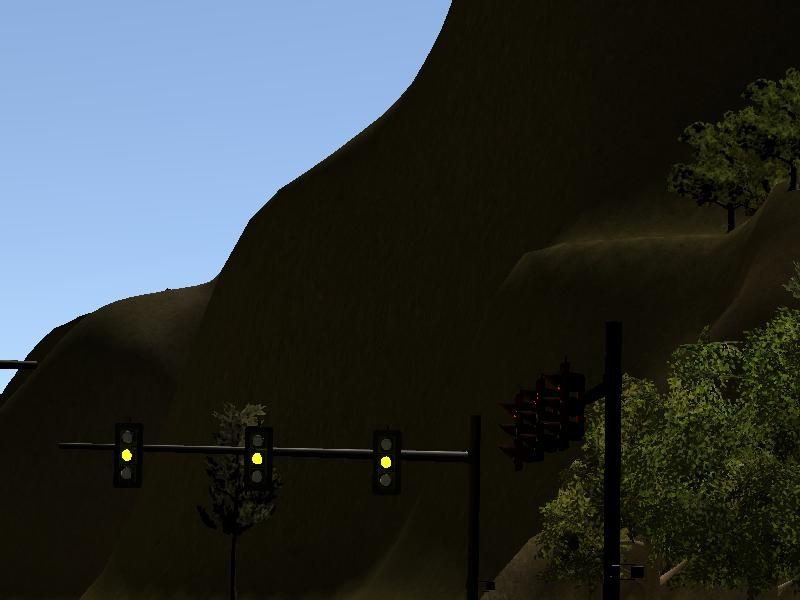YELLOW: (238, 421, 273, 486), (368, 429, 403, 492), (113, 424, 143, 482)
